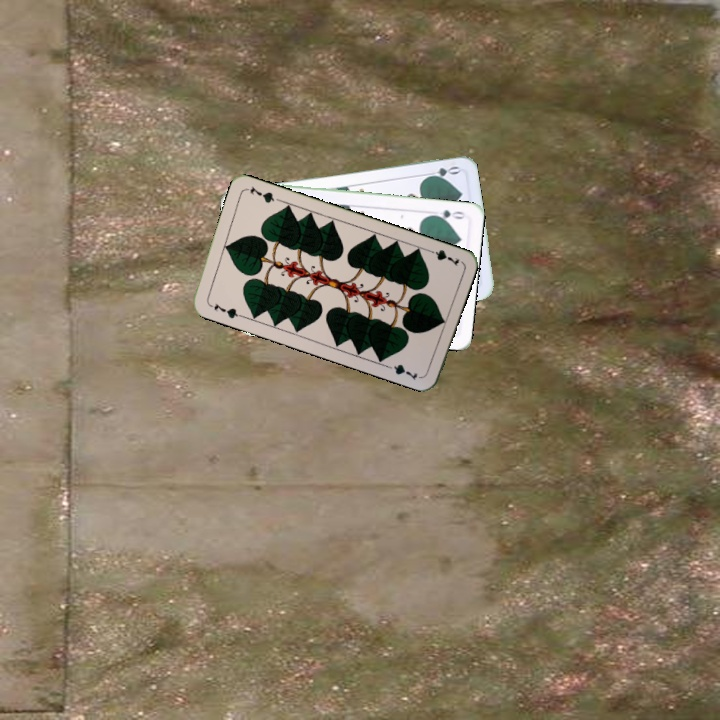G7: (423, 245, 462, 269), (210, 299, 244, 321)
GO: (421, 162, 462, 182), (427, 205, 468, 223)
